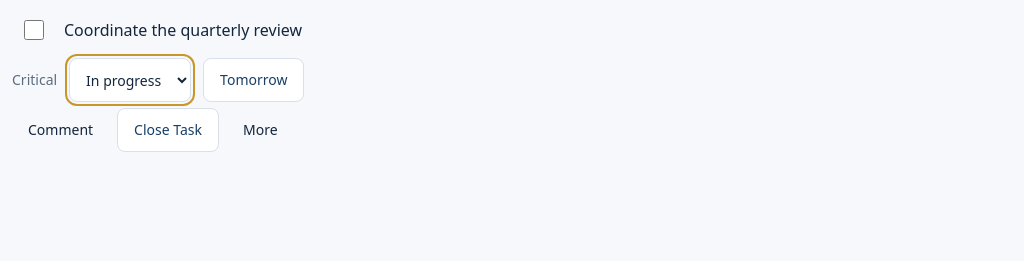
Test: TaskListRow › gives focus back to the control when a conflict is recovered
Expected: the button with test id "task-close-trigger" is enabled, [117,108,219,152]
Select "Blocked" in the dropdown at [130, 80], box [69,58,191,102]
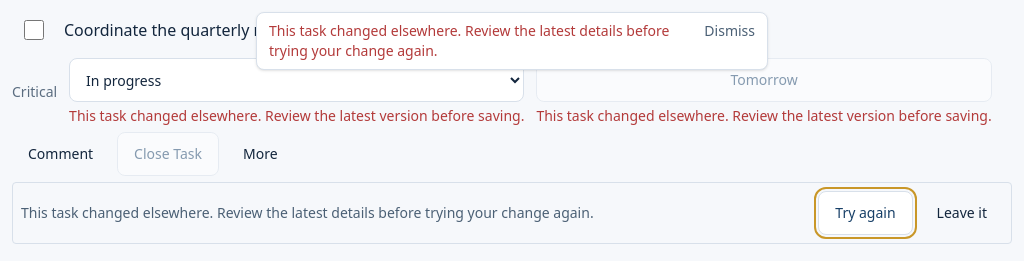
Click the button with test id "task-list-row-conflict-reapply" at [866, 213], box [818,191,913,235]
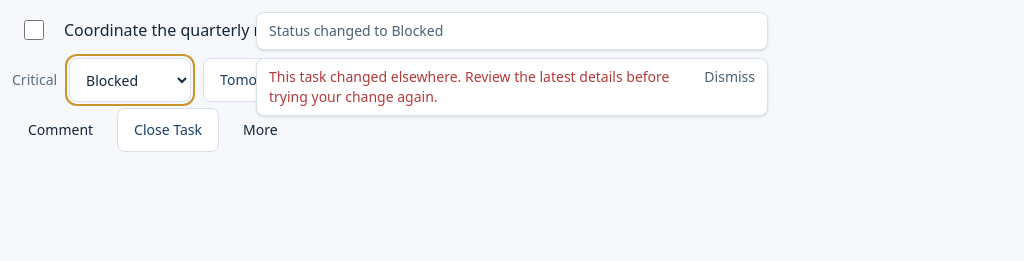
Expected: the element with test id "task-list-row-conflict" is gone
